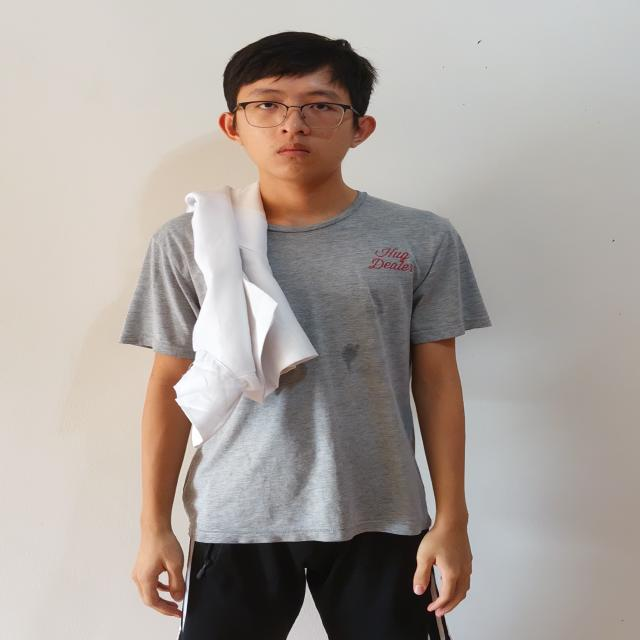person_without_labcoat: (120, 32, 491, 640)
